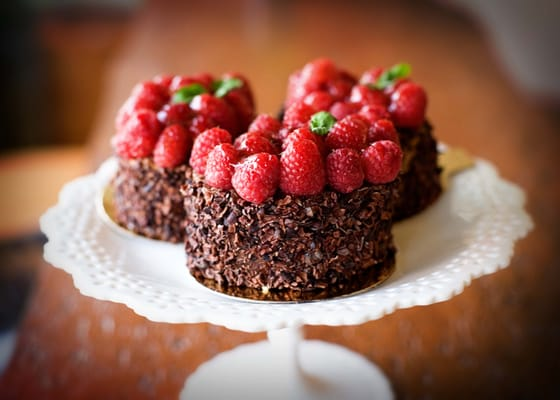sushi: (104, 58, 446, 303)
